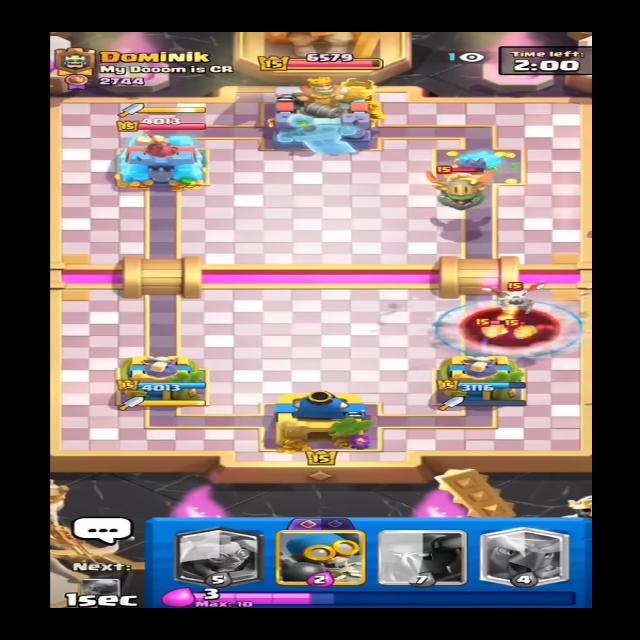inferno-dragon: (419, 160, 501, 207)
skeleton-dragon: (488, 275, 552, 316)
